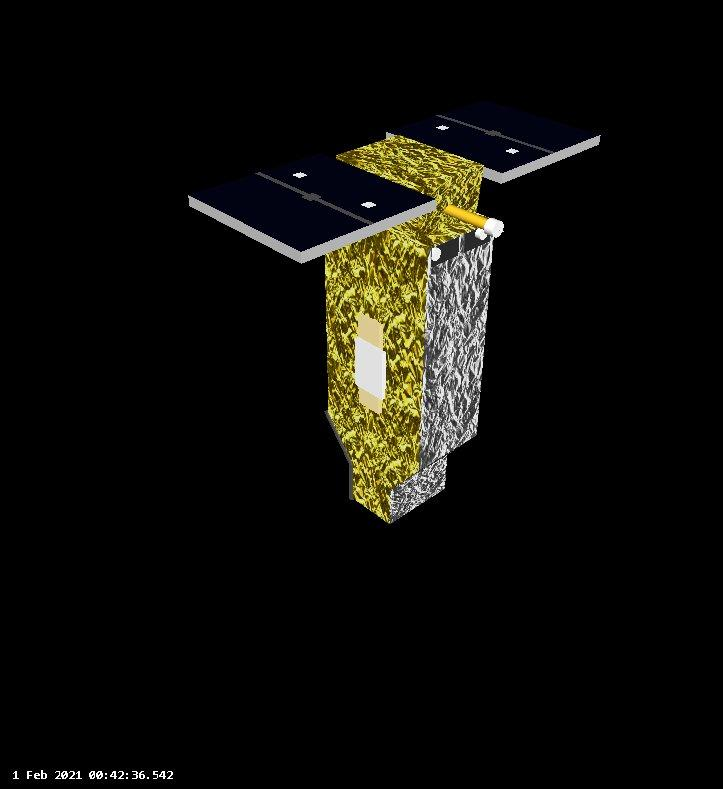antenna: (444, 203, 508, 240)
body: (322, 133, 499, 526)
solar: (185, 150, 439, 266), (382, 95, 604, 186)
